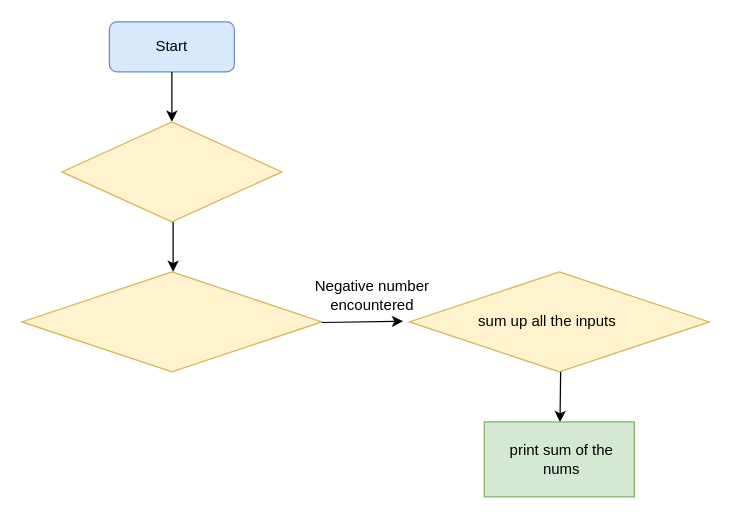
Some shapes in this 731 by 519 pixel diagram are drawn without their labels. Each missing label, with the centre of its shape:
As the program loops through accept multiple input of nums;: point (171, 321)
Loop through until a negative number is encountered: point (171, 171)
